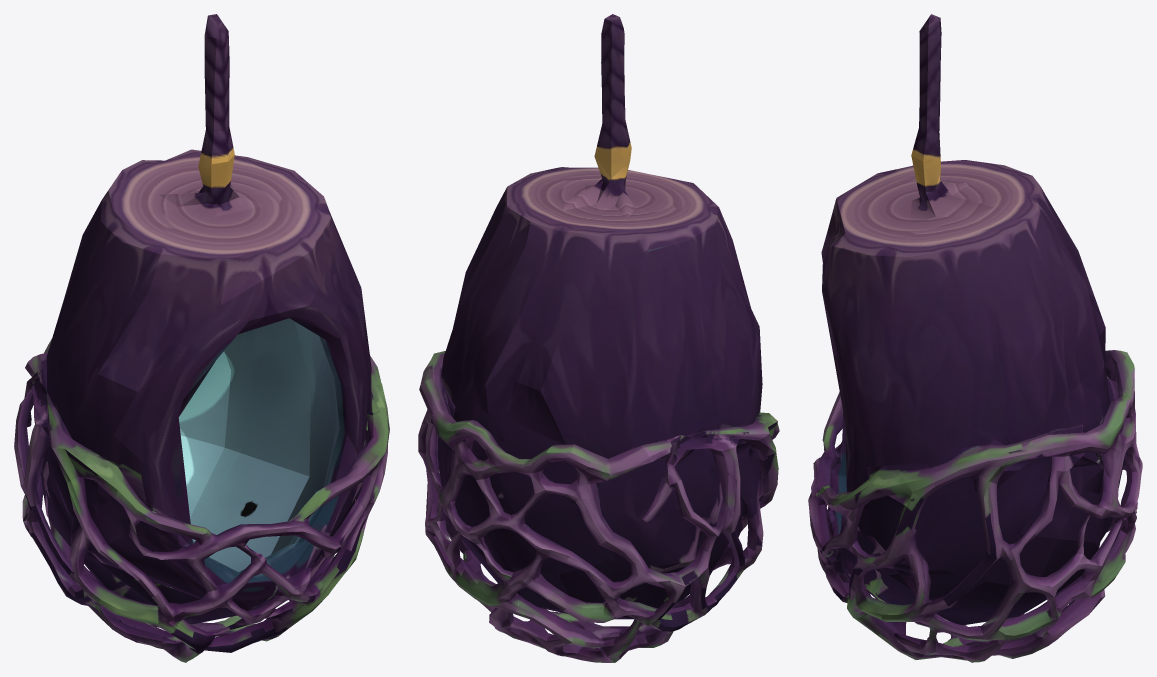
The model's file is prop_spirit_lantern.glb.
3 views of the same model, side by side, from view 1: azimuth 30°, elevation 25°; view 2: azimuth 150°, elevation 25°; view 3: azimuth 270°, elevation 25° (orthographic). The views are drawn at different scales.
Visible parts, largest first — view 1: Mesh0; view 2: Mesh0; view 3: Mesh0.
Part boxes in pixels (<box>): Mesh0: <box>14,14,389,662</box>; Mesh0: <box>418,14,779,662</box>; Mesh0: <box>808,14,1142,662</box>.
Size of the model in its own units: 1.01 by 1.89 by 0.9071.
Materials: 1 (1 with a texture image).
